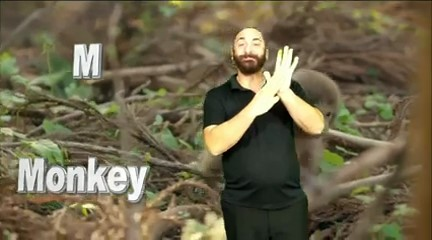M: (248, 45, 304, 115)
